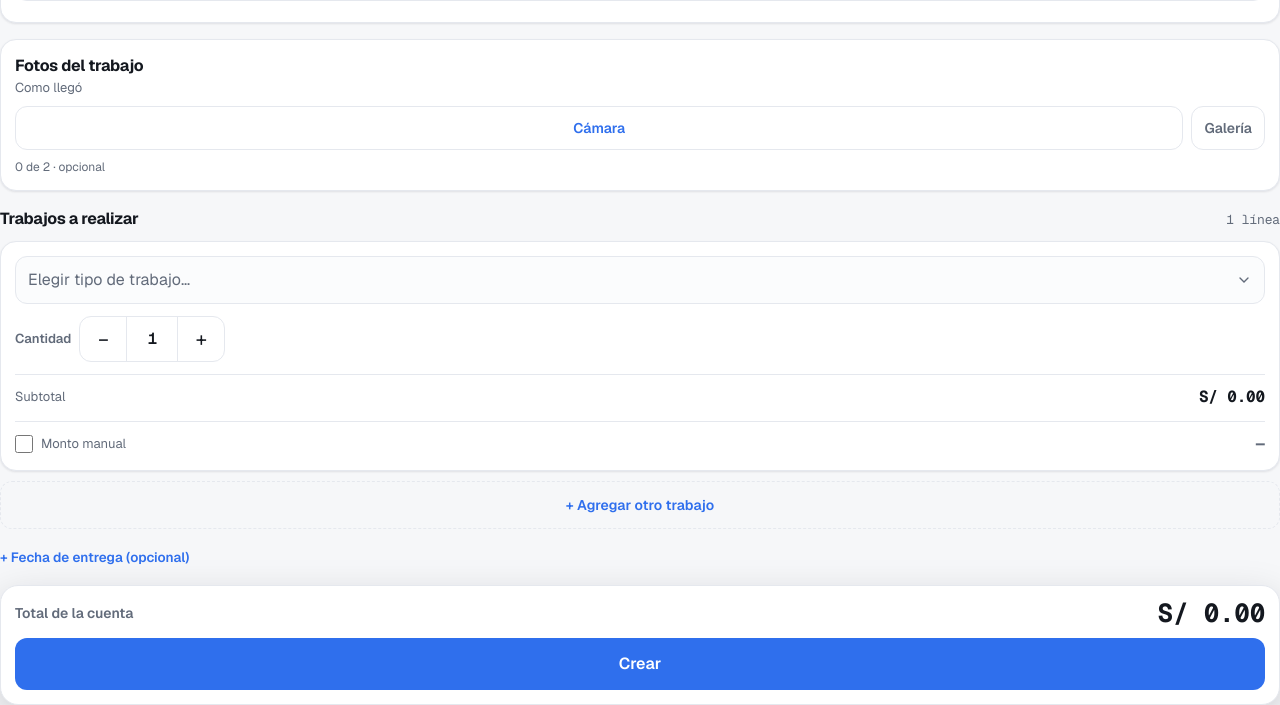
Test: TrabajoForm — fecha de entrega en un alta › los atajos cuentan desde el ingreso
The image size is (1280, 705).
(page scrolled)
Step 1. Click the button "+ Fecha de entrega (opcional)" → (95, 557), box [0,546,189,567]
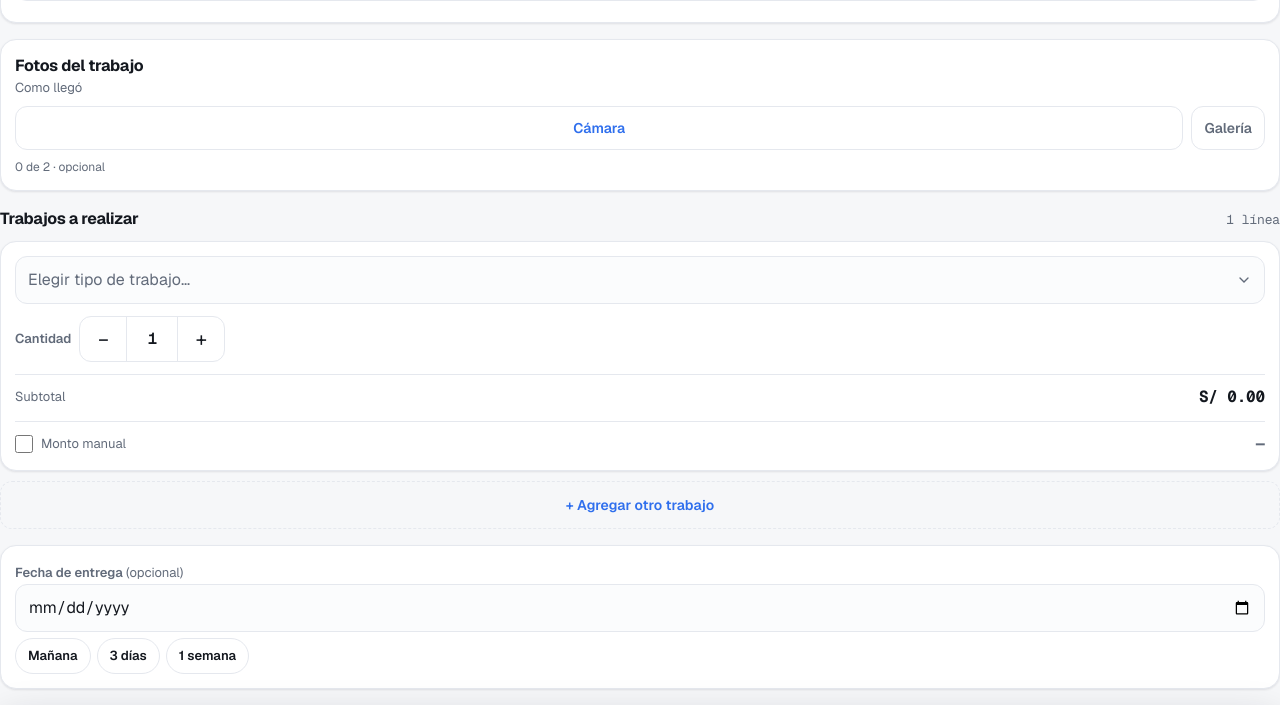
Step 2. Click the button "Mañana" → (53, 656), box [15,638,90,674]
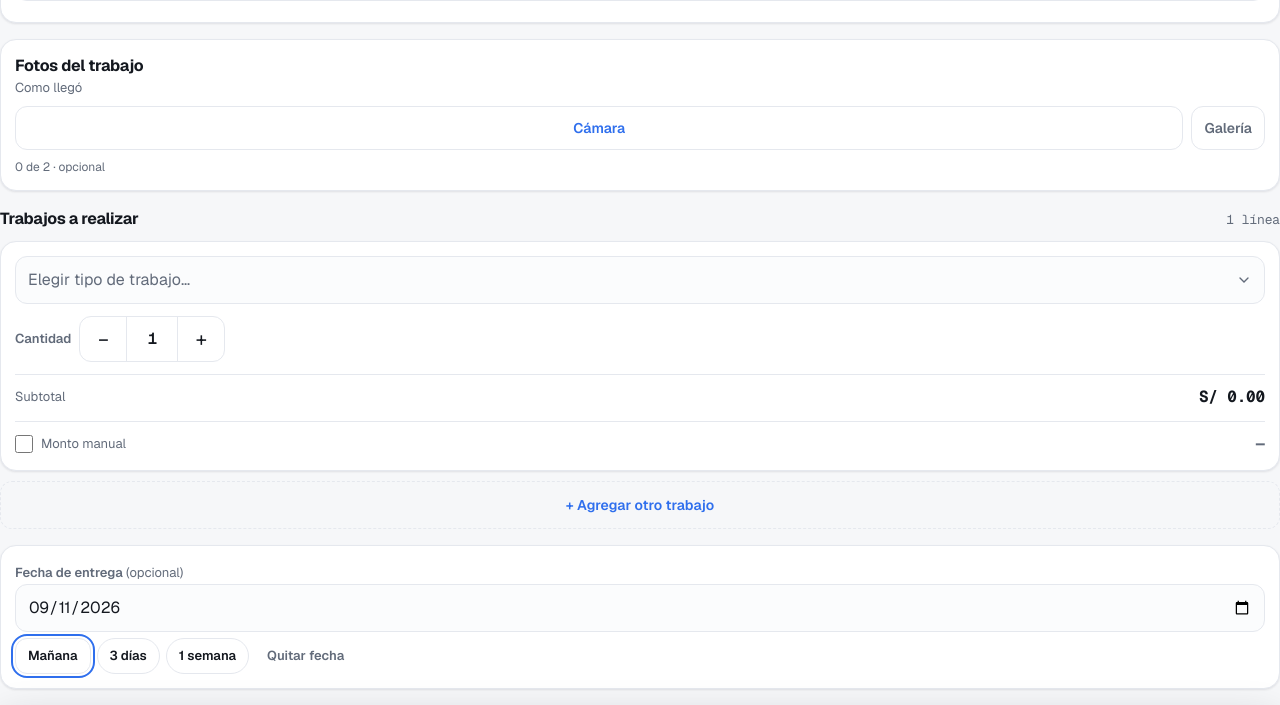
Check: the date field named "fecha_entrega" holds "2026-09-11", box [15,584,1265,632]
Step 3. Click the button "1 semana" → (207, 656), box [166,638,249,674]
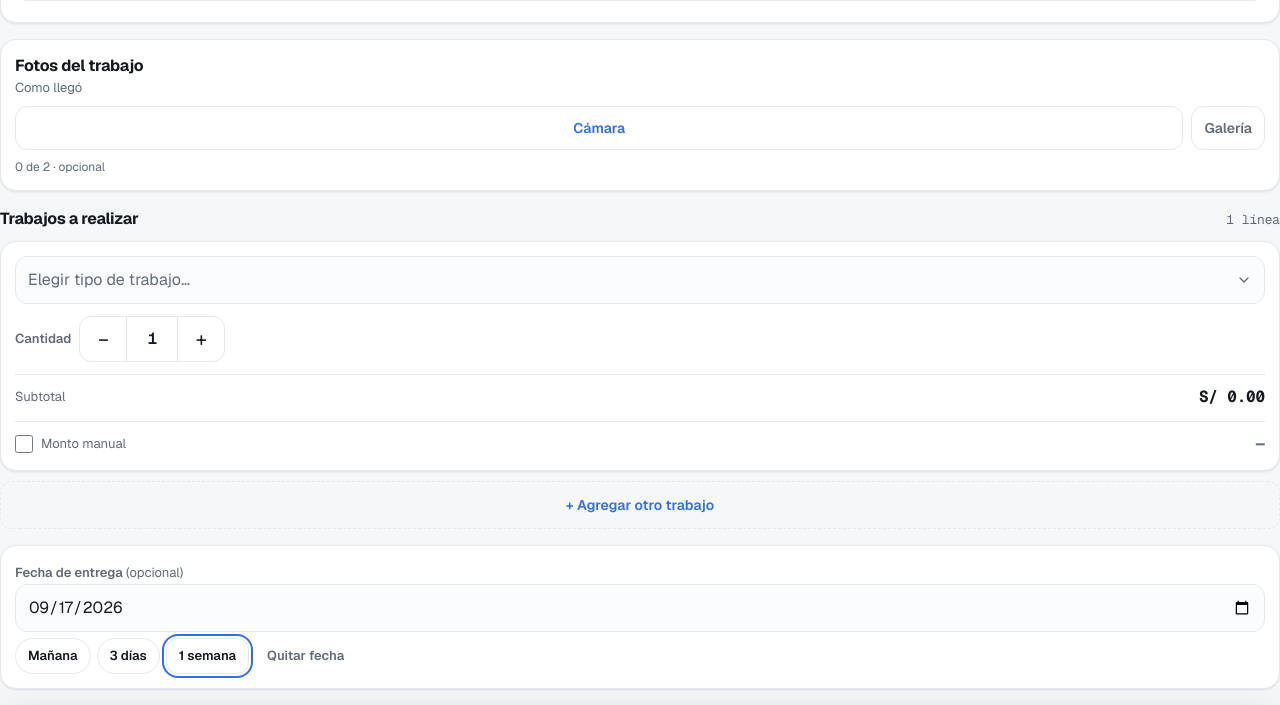
Check: the date field named "fecha_entrega" holds "2026-09-17", box [15,584,1265,632]
